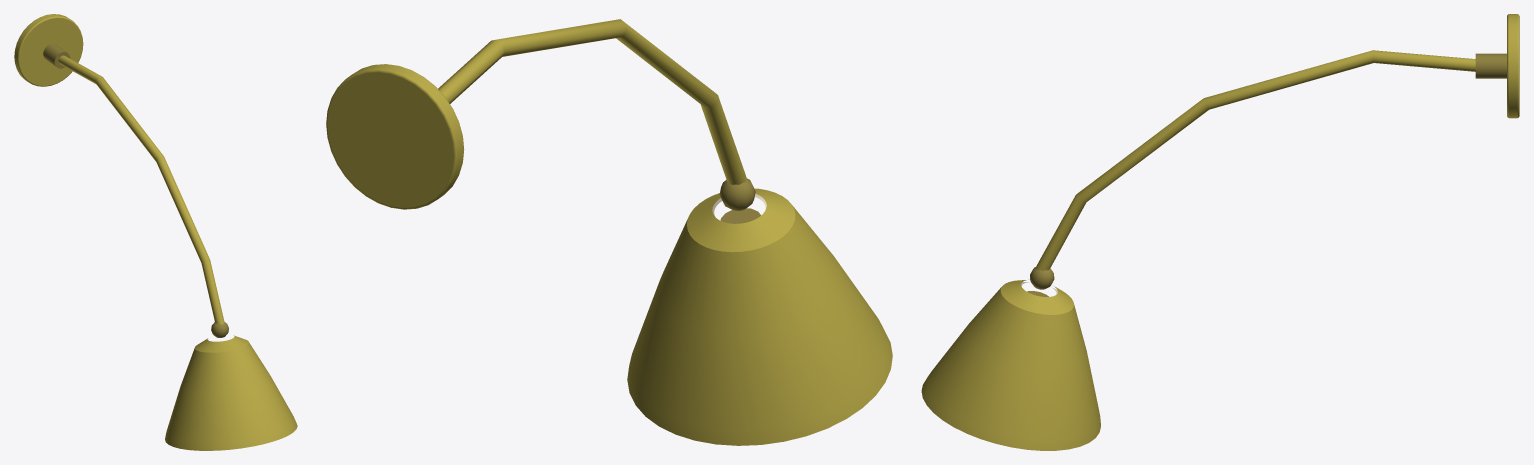
Rendered from lamp.glb.
3 renders of one model, left to right at view 1: azimuth 30°, elevation 25°; view 2: azimuth 150°, elevation 25°; view 3: azimuth 270°, elevation 25°, orthographic. The views are drawn at different scales.
Parts seen in each view (by area): view 1: Lamp_Shade, Lamp_WallPlate, Lamp_Arm, Lamp_Knuckle; view 2: Lamp_Shade, Lamp_WallPlate, Lamp_Arm, Lamp_Swivel; view 3: Lamp_Shade, Lamp_Arm, Lamp_WallPlate, Lamp_Knuckle.
Part boxes in pixels (box(x1,y1,x2,y2)): Lamp_Shade: box(165, 335, 297, 450); Lamp_WallPlate: box(14, 14, 83, 86); Lamp_Arm: box(58, 55, 224, 324); Lamp_Knuckle: box(43, 43, 70, 68); Lamp_Shade: box(627, 188, 892, 445); Lamp_WallPlate: box(326, 64, 464, 209); Lamp_Arm: box(438, 19, 746, 184); Lamp_Swivel: box(719, 178, 755, 211); Lamp_Shade: box(921, 279, 1100, 450); Lamp_Arm: box(1035, 50, 1475, 270); Lamp_WallPlate: box(1507, 14, 1519, 118); Lamp_Knuckle: box(1475, 53, 1506, 78).
Bounding box in the file's own units: 0.176 × 0.4305 × 0.5731.
